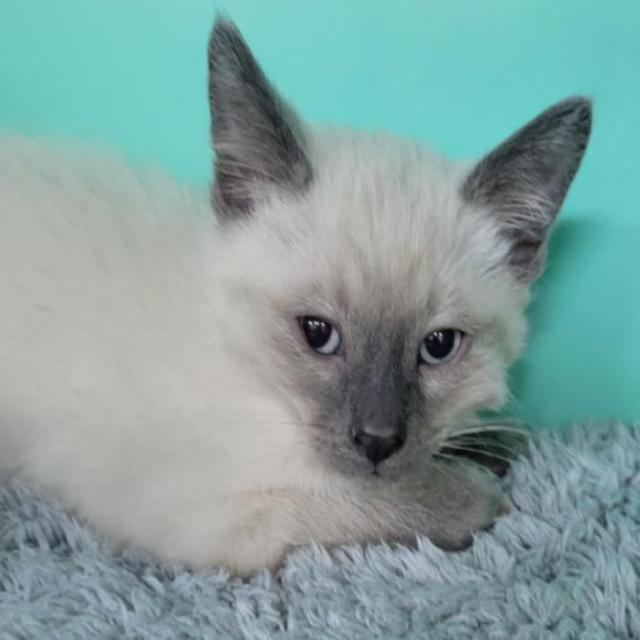siamese_cat: (170, 6, 598, 505)
